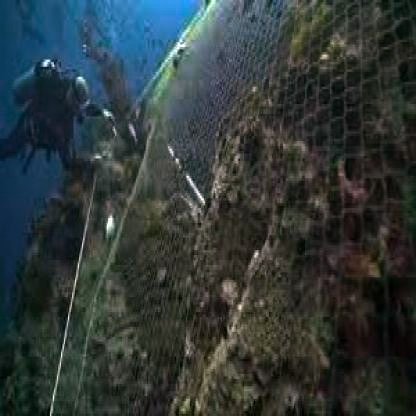net: (82, 10, 416, 416)
